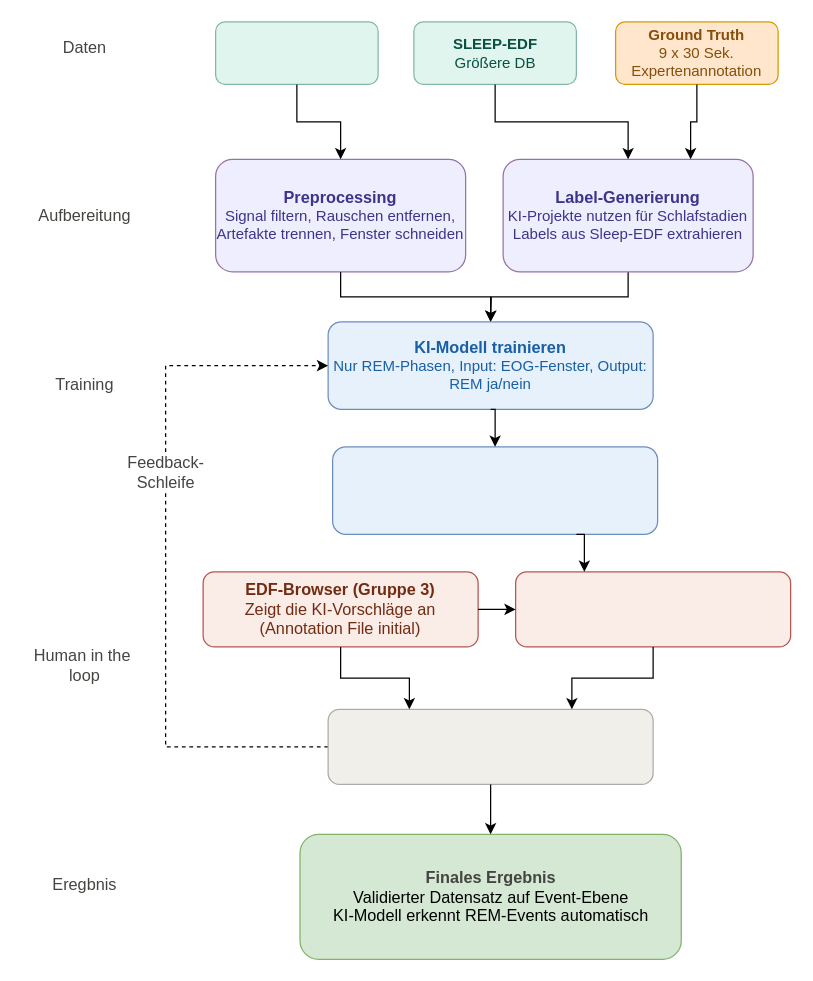
Image size: 813x981. Some labels were removed from this diagram. The box of each missing label's shape, as (x1, y1, x2, y2) in pixels:
Annotation File (neu + angepasst) Zeitstempel, Label, bewertet von KI + Mensch: (327, 708, 653, 784)
DREAMS DB EOG + Hypnogramm: (214, 21, 378, 84)
Human in the loop - Mensch bewertet Richtig oder Falsch pro Event: (514, 571, 791, 647)
Modell läuft auf neuen Daten Schlägt REM-Events vor, noch ungenau: (331, 446, 658, 534)
